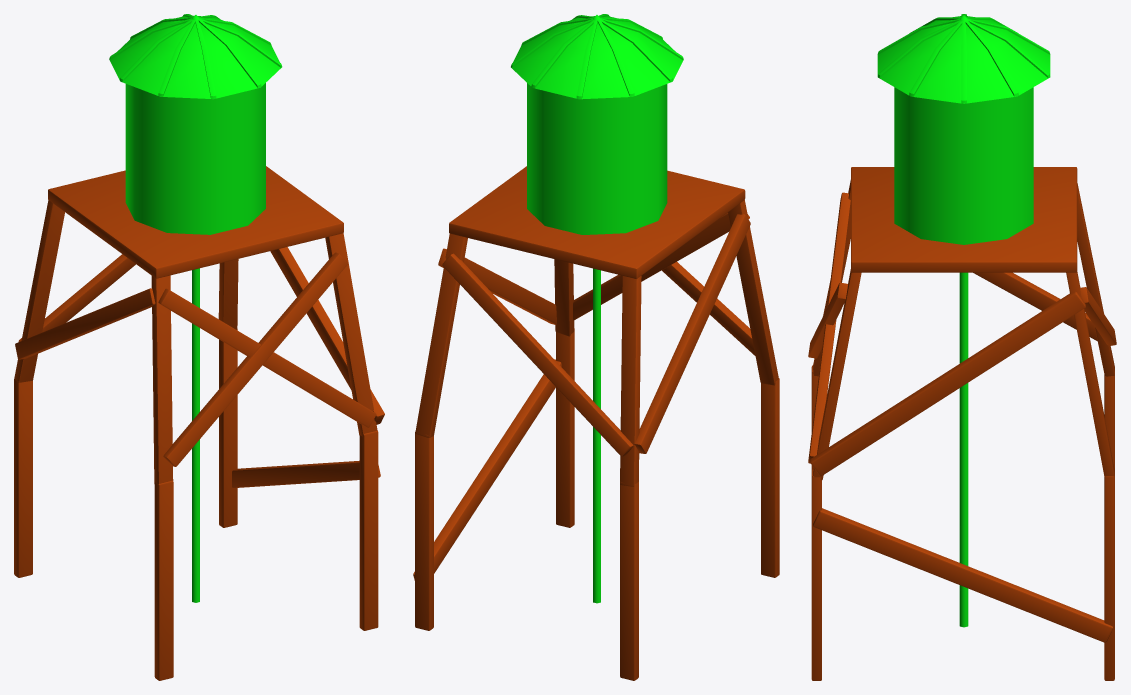
Rendered from Water Tower.FBX.
3 views of the same model, side by side, from view 1: azimuth 30°, elevation 25°; view 2: azimuth 150°, elevation 25°; view 3: azimuth 270°, elevation 25° (orthographic). The views are drawn at different scales.
Parts seen in each view (by area): view 1: Water Tower; view 2: Water Tower; view 3: Water Tower.
Part boxes in pixels (x1,y1,x2,y2): Water Tower: [14, 14, 384, 680]; Water Tower: [413, 14, 779, 680]; Water Tower: [808, 14, 1116, 680].
Size of the model in its own units: 1098 by 2679 by 1226.
